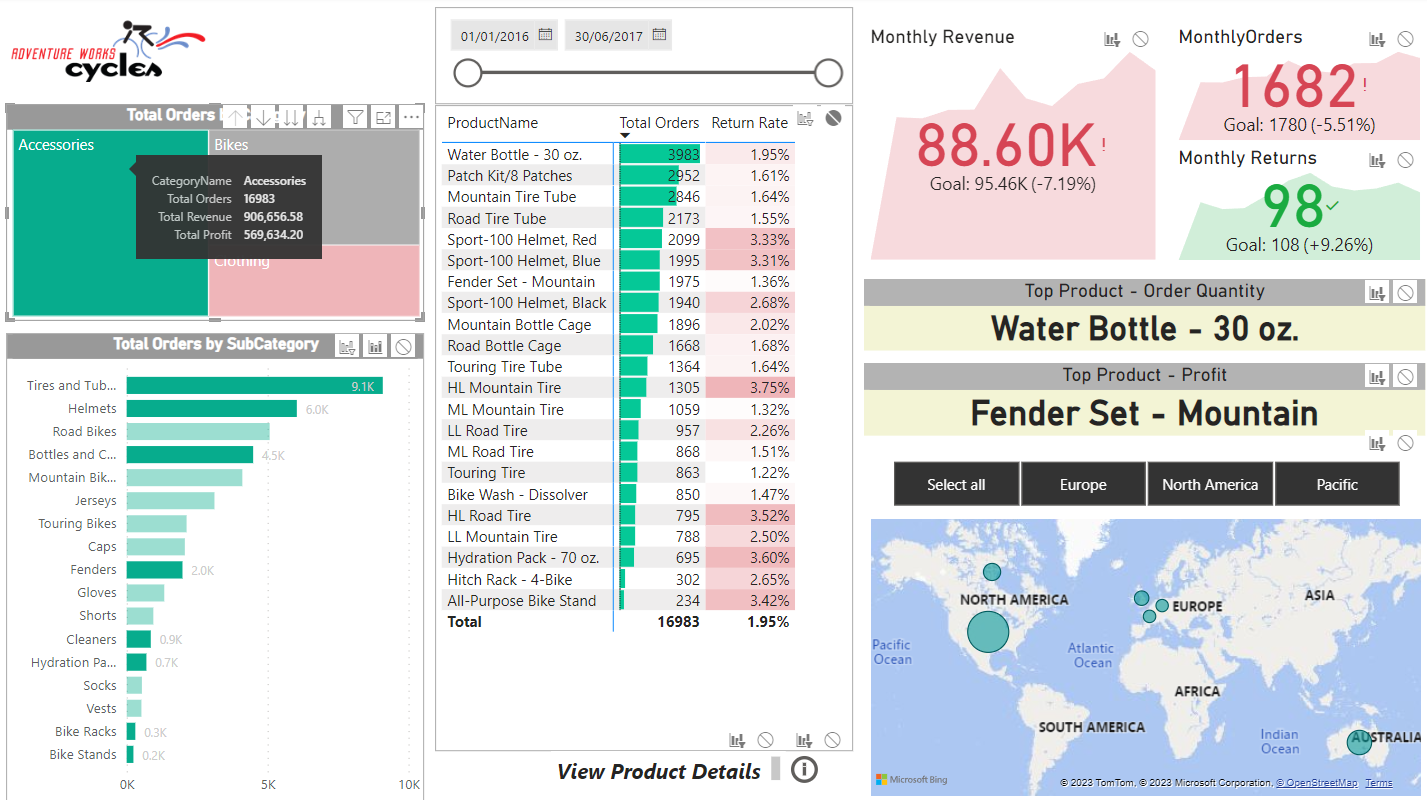

The dashboard page shown, as its layout file describes it:
{"tool":"powerbi","page":{"name":"Exec_Summary","canvas":[1280,720],"ordinal":2},"visuals":[{"type":"image","box":[9.8,0,184.6,96],"z":0},{"type":"barChart","title":"Total Orders by SubCategory","fields":{"Y":["AW_Sales.Total Orders"],"Category":["AW_Product_Subcategory_Lookup.SubcategoryName"]},"box":[9.8,300.7,374.1,420.5],"z":1000},{"type":"treemap","title":"Total Orders by Category","fields":{"Group":["AW_Product_Category_Lookup.CategoryName","AW_Product_Subcategory_Lookup.SubcategoryName"],"Values":["AW_Sales.Total Orders"]},"box":[9.8,95.3,374.1,194.4],"z":2000},{"type":"pivotTable","fields":{"Rows":["AW_Product_Category_Lookup.CategoryName","AW_Product_Lookup.ProductName","AW_Product_Subcategory_Lookup.SubcategoryName"],"Values":["AW_Sales.Total Orders","AW_Returns.Return Rate"]},"box":[393.6,96.6,374.1,578.2],"z":3000},{"type":"slicer","fields":{"Values":["AW_Calendar_Lookup.Date"]},"box":[393.8,8.6,374.2,87.4],"z":4000},{"type":"kpi","title":"Monthly Revenue","fields":{"Indicator":["AW_Sales.Total Revenue"],"TrendLine":["AW_Calendar_Lookup.Start of Month"],"Goal":["AW_Sales.Prev Month Revenue"]},"box":[777.8,24.6,264.6,215.4],"z":5000},{"type":"kpi","title":"MonthlyOrders ","fields":{"Indicator":["AW_Sales.Total Orders"],"TrendLine":["AW_Calendar_Lookup.Start of Month"],"Goal":["AW_Sales.Prev Month Orders"]},"box":[1053.5,24.6,226.5,108.3],"z":6000},{"type":"kpi","title":"Monthly Returns ","fields":{"Indicator":["AW_Returns.Total Returns"],"TrendLine":["AW_Calendar_Lookup.Start of Month"],"Goal":["AW_Returns.Prev Month Returns"]},"box":[1053.5,132.9,226.5,107.1],"z":7000},{"type":"card","title":"Top Product - Order Quantity","fields":{"Values":["Min(AW_Product_Lookup.ProductName)"]},"box":[777.5,251.8,502.4,63.6],"z":8000},{"type":"card","title":"Top Product - Profit","fields":{"Values":["Min(AW_Product_Lookup.ProductName)"]},"box":[777.5,327.6,502.4,64.8],"z":9000},{"type":"shapeMap","fields":{"Category":["AW_Territories_Lookup.Country"],"Value":["AW_Sales.Total Orders"]},"box":[777.8,461.5,502.2,258.5],"z":10000},{"type":"slicer","fields":{"Values":["AW_Territories_Lookup.Continent"]},"box":[777.8,408.6,502.2,52.9],"z":11000},{"type":"textbox","box":[497.5,674.8,210.3,33],"z":12000},{"type":"actionButton","box":[707.8,674.8,59.9,33],"z":13000}]}

Visuals, with their boxes in screenshot pixels (x1, y1, x2, y2), scaled from the page's 1280x720 canvas onto the 1427x800 screenshot:
image: <bbox>11, 0, 217, 107</bbox>
"Total Orders by SubCategory" barChart: <bbox>11, 334, 428, 799</bbox>
"Total Orders by Category" treemap: <bbox>11, 106, 428, 322</bbox>
pivotTable - AW_Product_Category_Lookup.CategoryName x AW_Product_Lookup.ProductName: <bbox>439, 107, 856, 750</bbox>
slicer - AW_Calendar_Lookup.Date: <bbox>439, 10, 856, 107</bbox>
"Monthly Revenue" kpi: <bbox>867, 27, 1162, 267</bbox>
"MonthlyOrders " kpi: <bbox>1174, 27, 1426, 148</bbox>
"Monthly Returns " kpi: <bbox>1174, 148, 1426, 267</bbox>
"Top Product - Order Quantity" card: <bbox>867, 280, 1426, 350</bbox>
"Top Product - Profit" card: <bbox>867, 364, 1426, 436</bbox>
shapeMap - AW_Territories_Lookup.Country x AW_Sales.Total Orders: <bbox>867, 513, 1426, 799</bbox>
slicer - AW_Territories_Lookup.Continent: <bbox>867, 454, 1426, 513</bbox>
textbox: <bbox>555, 750, 789, 786</bbox>
actionButton: <bbox>789, 750, 856, 786</bbox>
